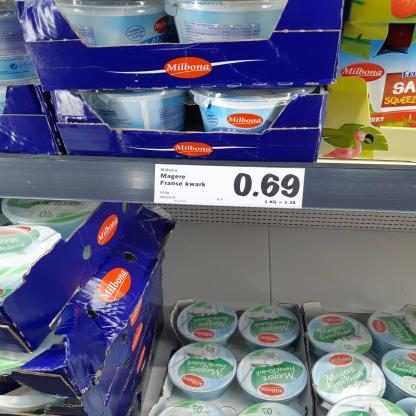prtg: (155, 165, 306, 209)
